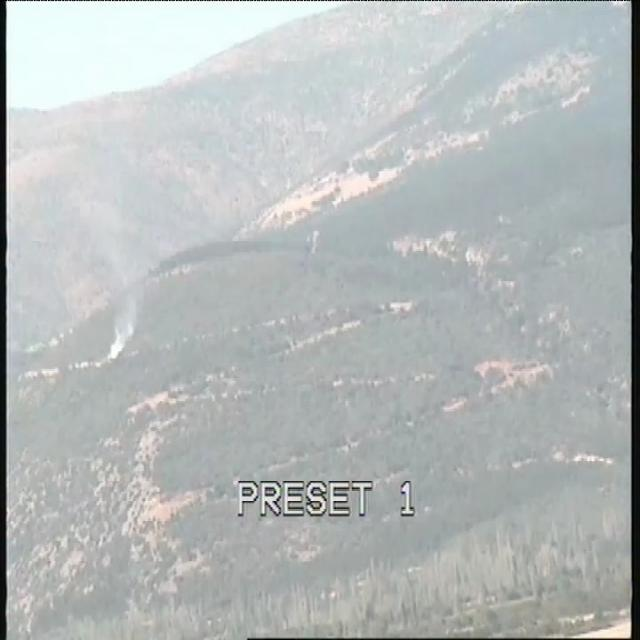smoke: (107, 312, 138, 360)
